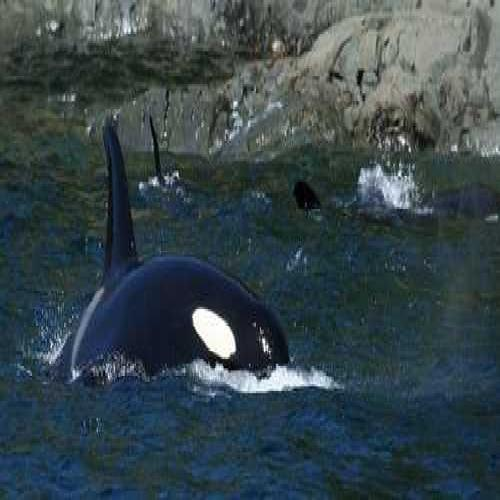killer_whale-endangered: (56, 111, 304, 422), (140, 97, 187, 190), (286, 156, 333, 232)
